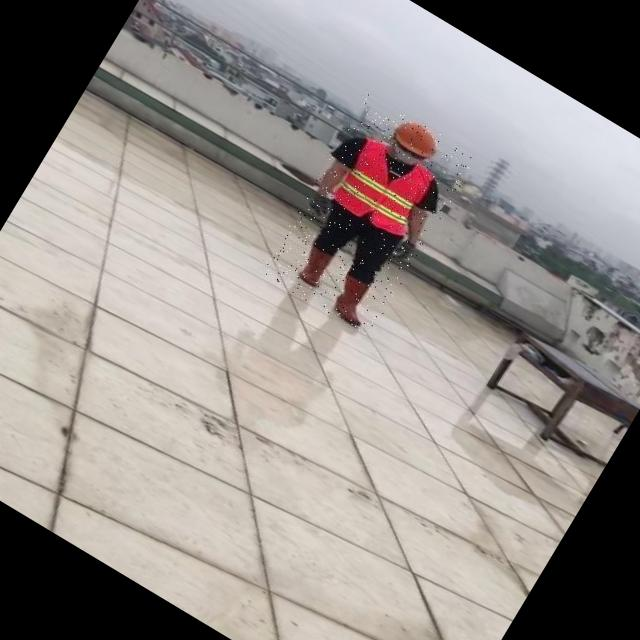hard_hat: (388, 113, 446, 164)
safety_vest: (328, 134, 438, 242)
vehicle: (260, 93, 478, 339)
work_boots: (326, 271, 382, 328), (292, 242, 336, 290)
